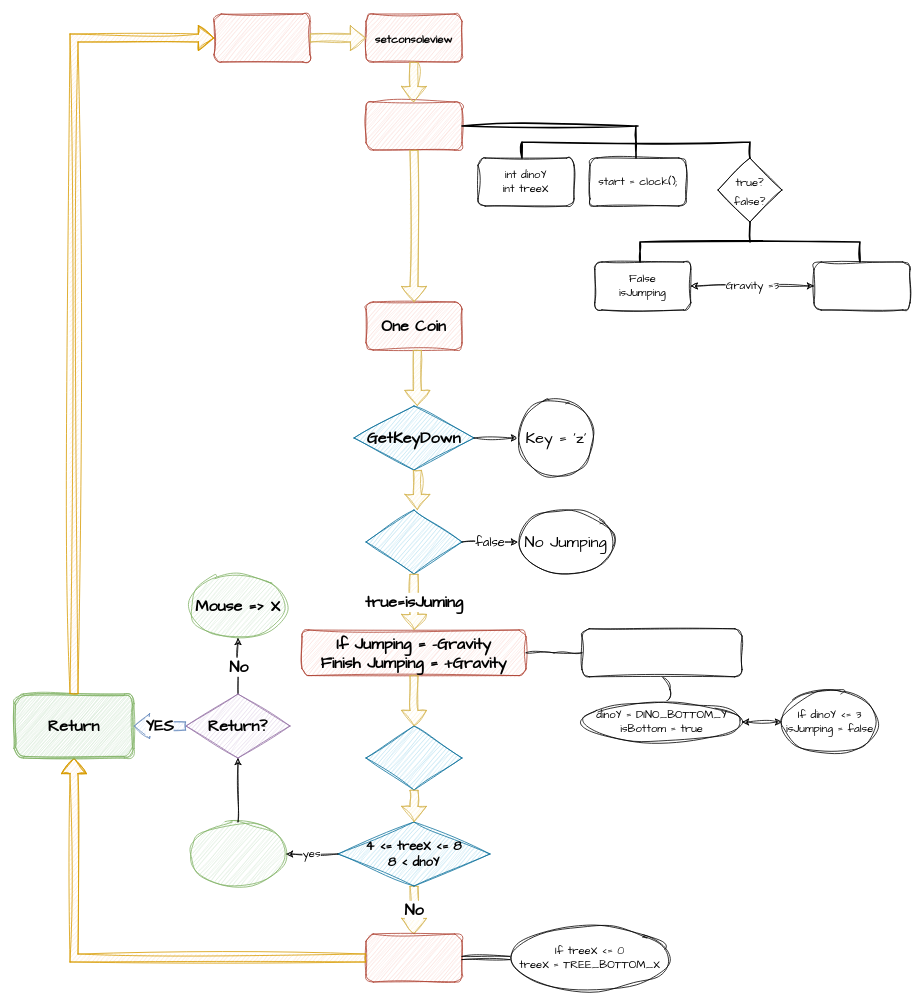
Some shapes in this 924 by 1004 pixel diagram are drawn without their labels. The shapes that lost their labels are listed below. From the top down, each one's centre as x and y in pixels, then its label:
At point 261,37: "Dino_play".
At point 413,125: "Game Loop".
At point 861,285: "True isBottom".
At point 413,541: "isBottom?".
At point 661,652: "If dinoY >= DINO_BOTTOM_y".
At point 413,757: "isCollosion?".
At point 237,853: "Game Over".
At point 413,957: "score++".
